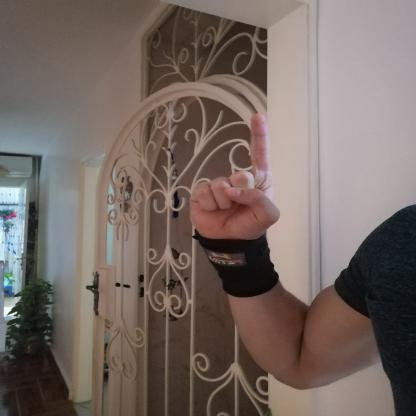BAA: (176, 108, 289, 252)
